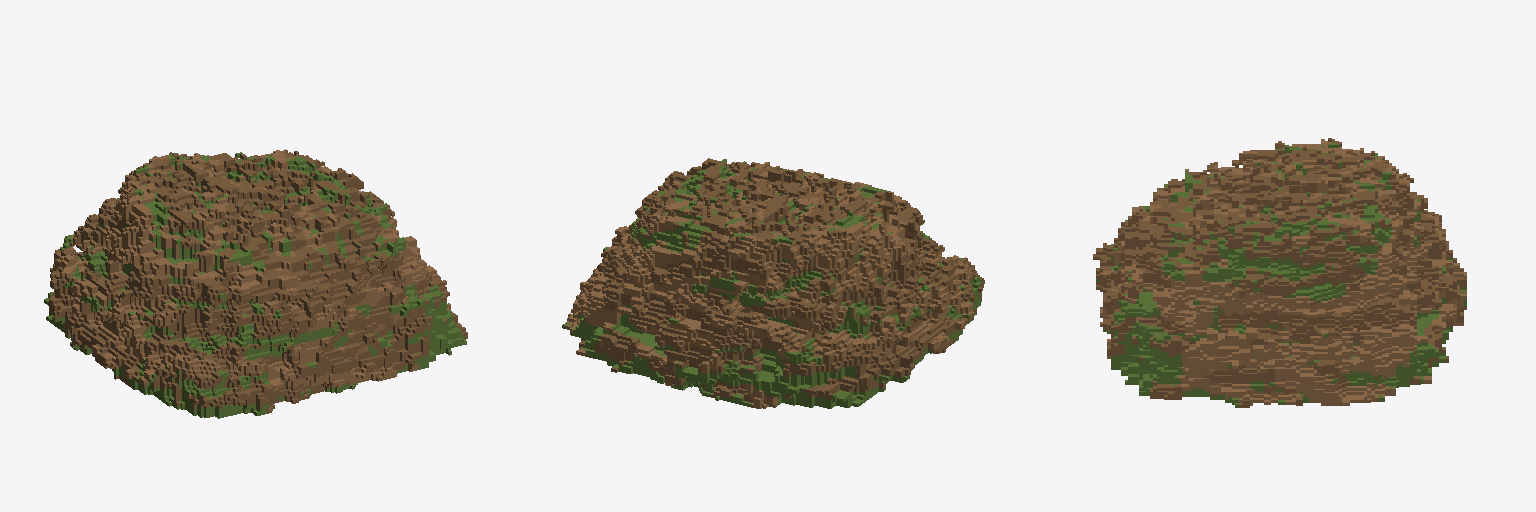
3 views of the same model, side by side, from view 1: azimuth 30°, elevation 25°; view 2: azimuth 150°, elevation 25°; view 3: azimuth 270°, elevation 25° (orthographic).
Parts seen in each view (by area): view 1: object 1; view 2: object 1; view 3: object 1.
Part boxes in pixels (left/top/right/bottom): object 1: left=44, top=149, right=467, bottom=418; object 1: left=562, top=158, right=984, bottom=408; object 1: left=1093, top=138, right=1466, bottom=407.
Bounding box in the file's own units: 10.7 × 4.4 × 10.5.
1 materials, 1 textured.